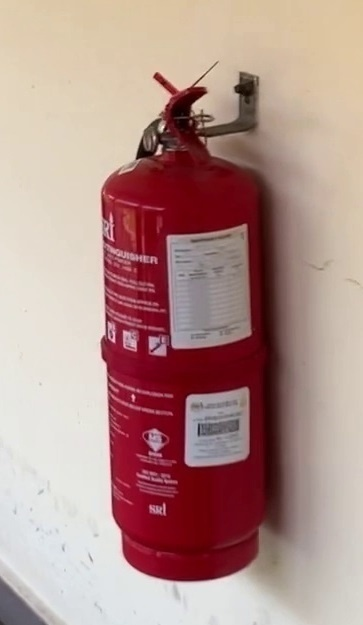fire_extinguisher: (100, 60, 269, 582)
